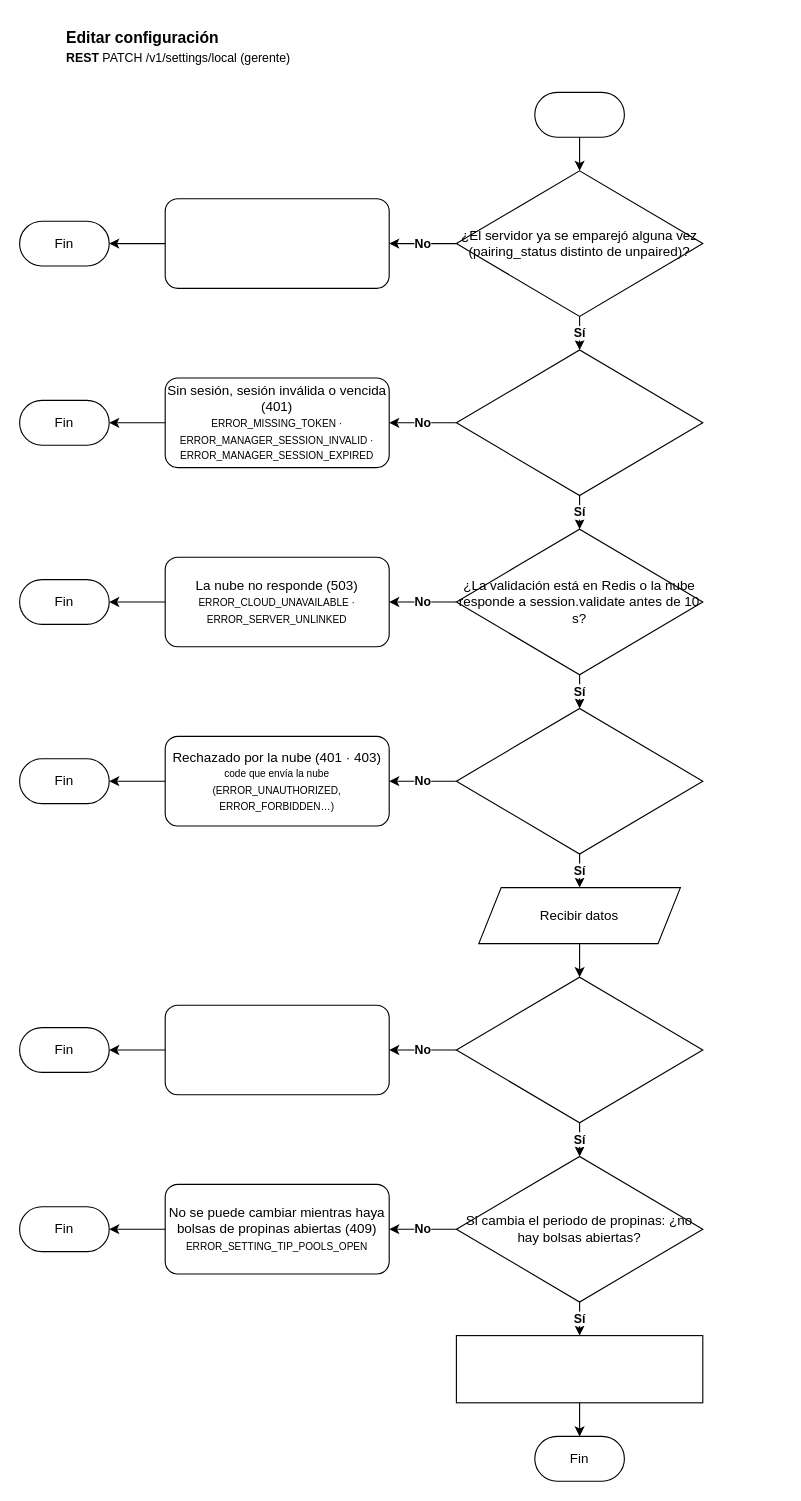
This 801x1501 diagram has some shape labels left out. The shapes that lost their labels are listed below. From the top down, each one's box as (x1, y1, x2, y2) in pixels, then its label:
(534, 91, 624, 137): Inicio
(164, 198, 389, 288): Servidor sin emparejar (409) ERROR_SERVER_NOT_PAIRED
(455, 349, 703, 496): ¿Trae una sesión de gerente válida (Bearer mss_..., sin 30 min de inactividad)?
(455, 707, 703, 854): ¿La nube acepta la sesión del gerente con este servidor?
(164, 1004, 389, 1095): Datos inválidos (400) ERROR_BAD_REQUEST
(455, 976, 703, 1123): ¿Los datos son válidos?
(455, 1334, 703, 1403): Responder 200 con el mensaje SETTINGS_UPDATED
